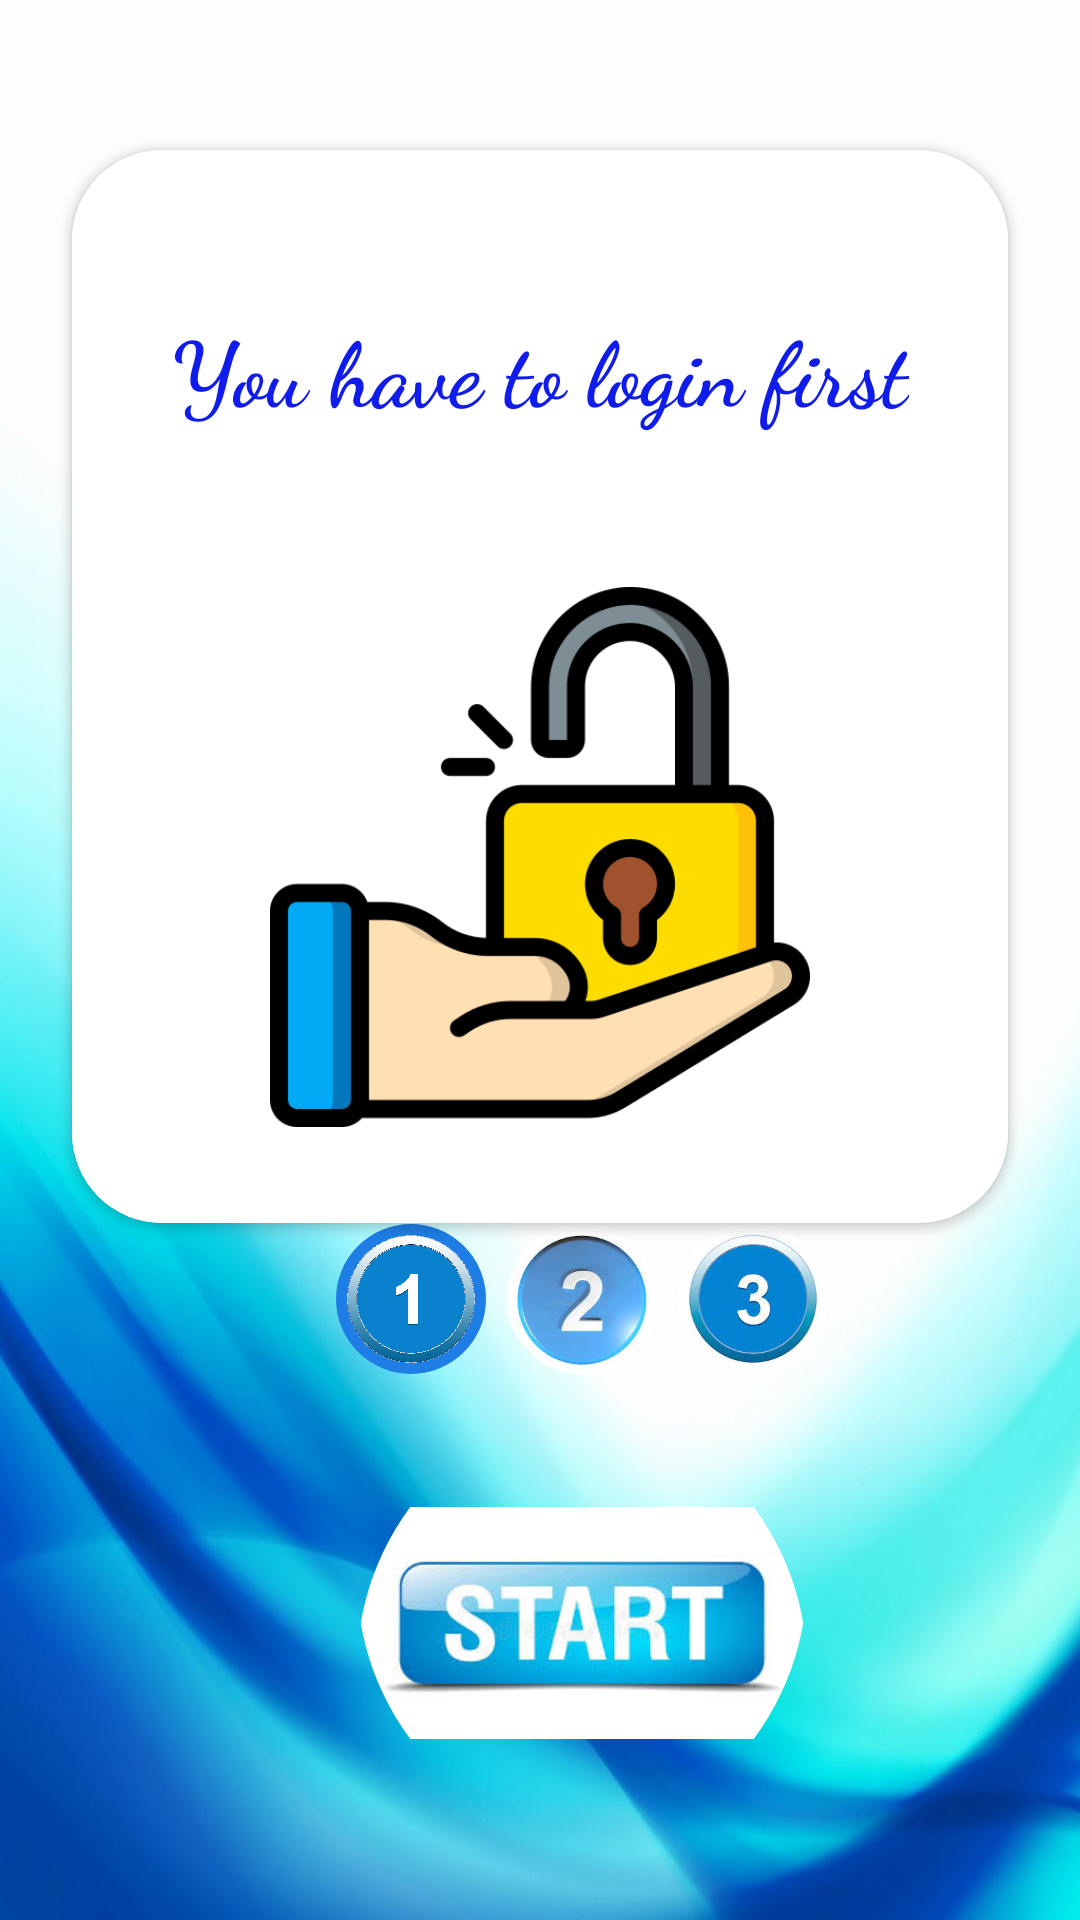

Icon click points for this 1080px x 1920px phone screenshot, format (x,y):
number: (582,1300)
numberbtn: (753,1299)
numbutton: (411,1299)
